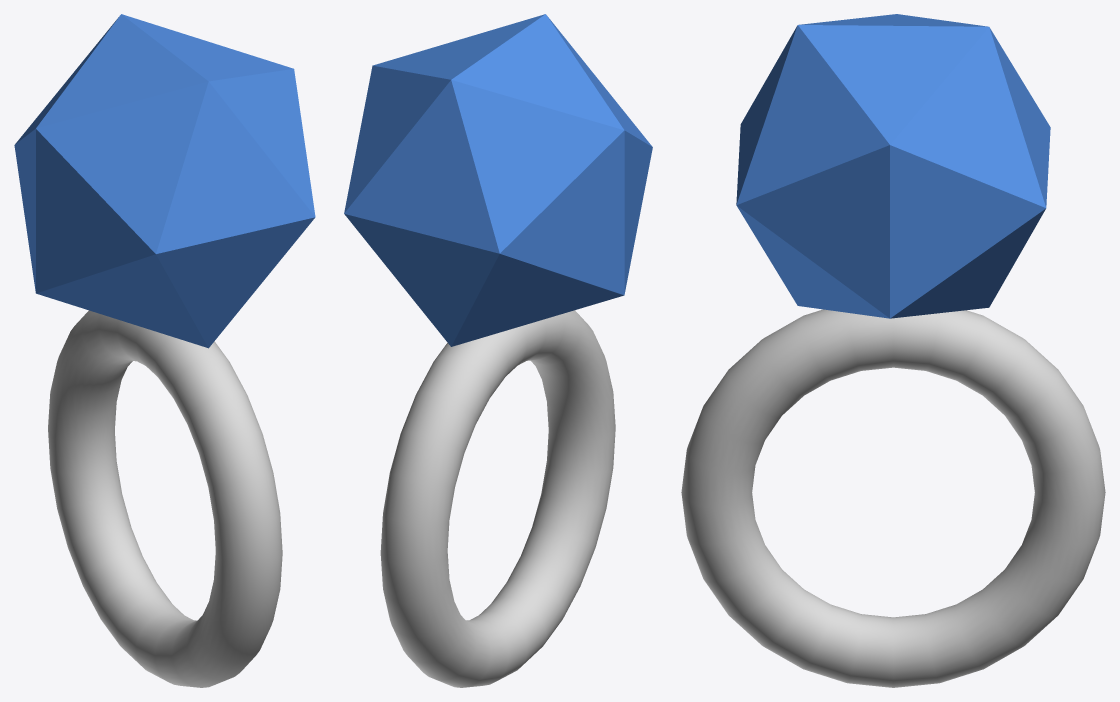
File: ring.fbx
3 views of the same model, side by side, from view 1: azimuth 30°, elevation 25°; view 2: azimuth 150°, elevation 25°; view 3: azimuth 270°, elevation 25° (orthographic). The views are drawn at different scales.
Visible parts, largest first — view 1: ring_blue; view 2: ring_blue; view 3: ring_blue.
Boxes of the visible parts, x1,y1,x2,y2 form: ring_blue: (14,14,315,687); ring_blue: (344,14,652,687); ring_blue: (681,14,1105,687).
Bounding box in the file's own units: 48.64 × 114 × 66.56.
